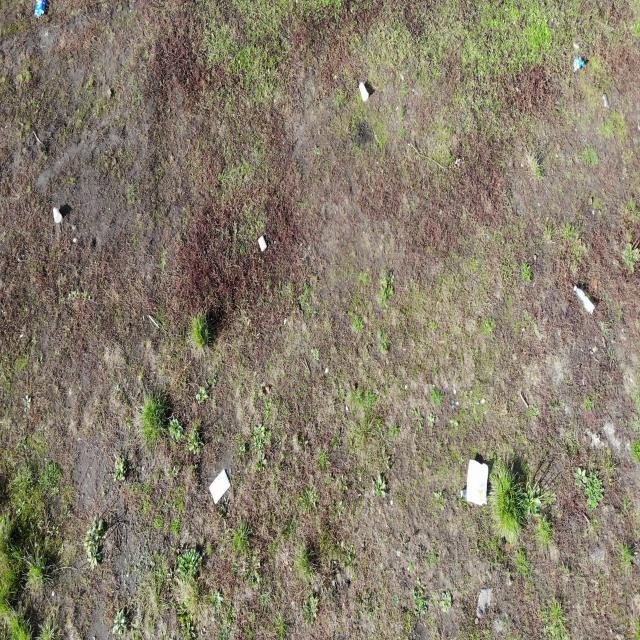rubbish: (466, 460, 488, 505), (572, 284, 597, 318), (208, 469, 230, 505), (358, 80, 370, 103), (52, 204, 62, 224), (34, 0, 45, 18), (572, 56, 584, 72), (258, 236, 268, 251)
